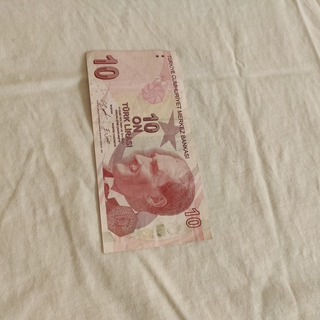10TLFront: (85, 48, 215, 256)
